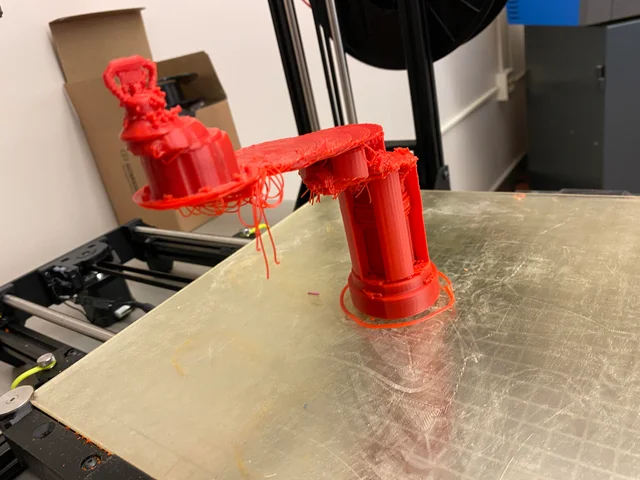Layer Shifting: (105, 113, 243, 164)
Spaghetti: (175, 159, 344, 272)
